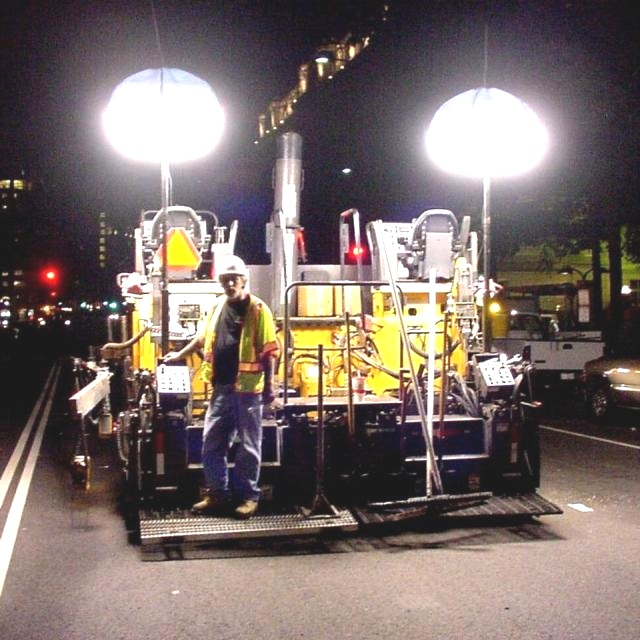Con_Chaleco: (199, 290, 272, 386)
